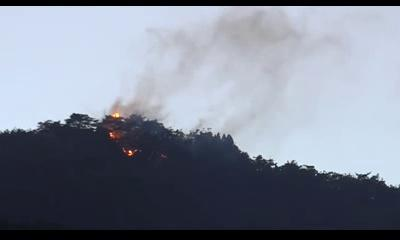fire: (109, 108, 129, 139)
